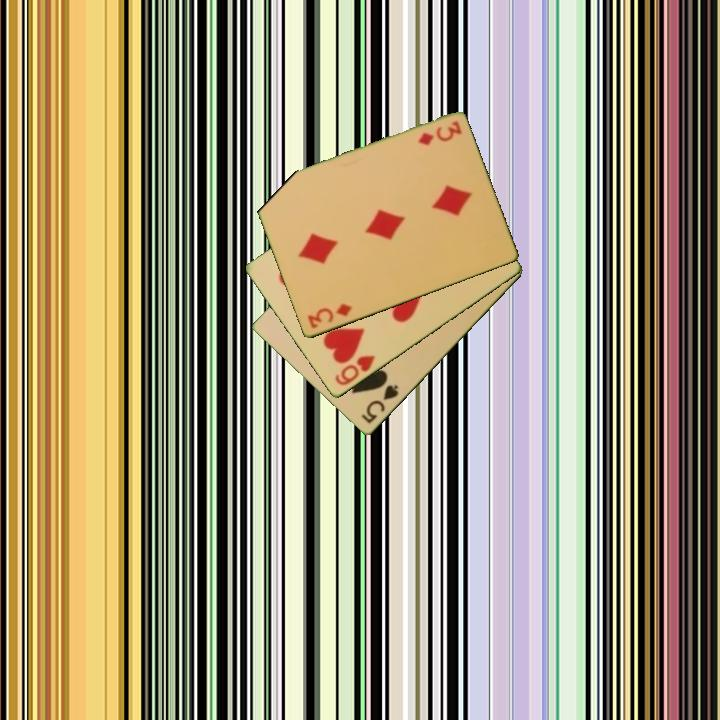3d: (303, 300, 355, 332), (414, 118, 465, 149)
5s: (357, 381, 401, 427)
6h: (331, 352, 378, 389)
